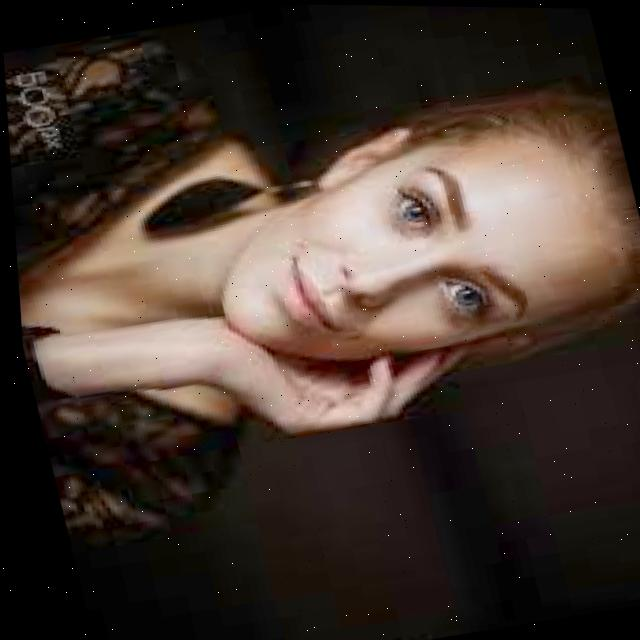happy: (195, 113, 622, 401)
